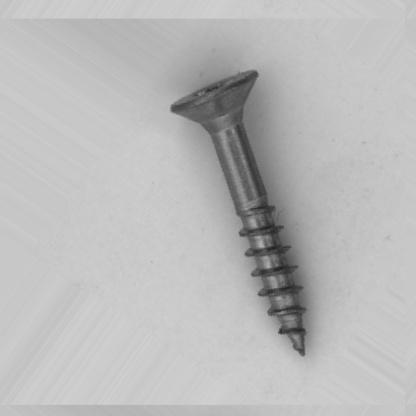metal: (169, 68, 308, 356)
